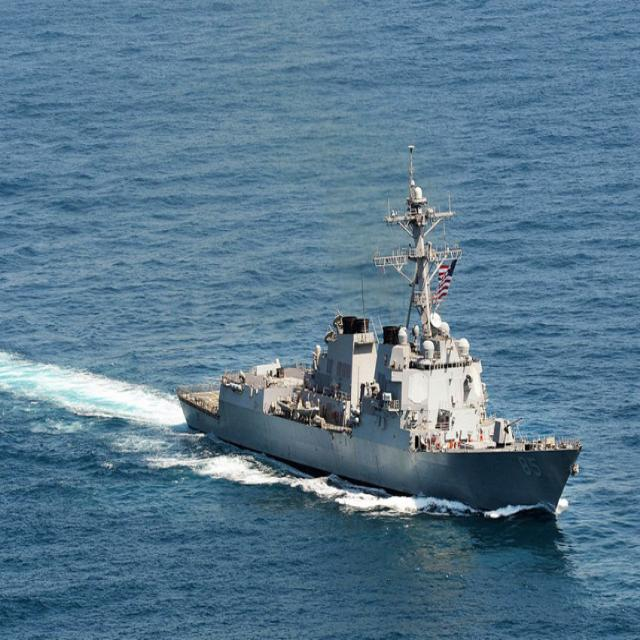navalvessels: (178, 139, 595, 542)
